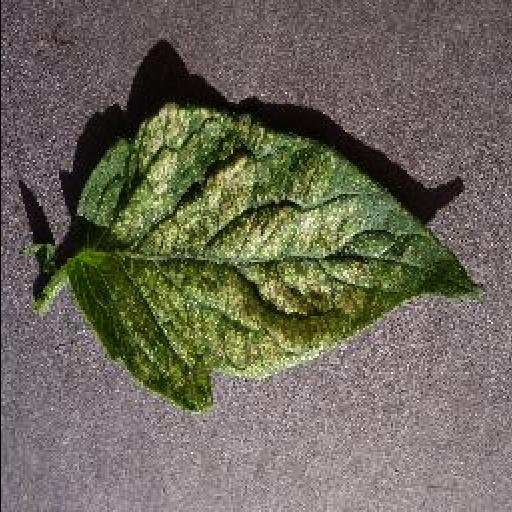disease_tomato: (72, 106, 482, 410)
